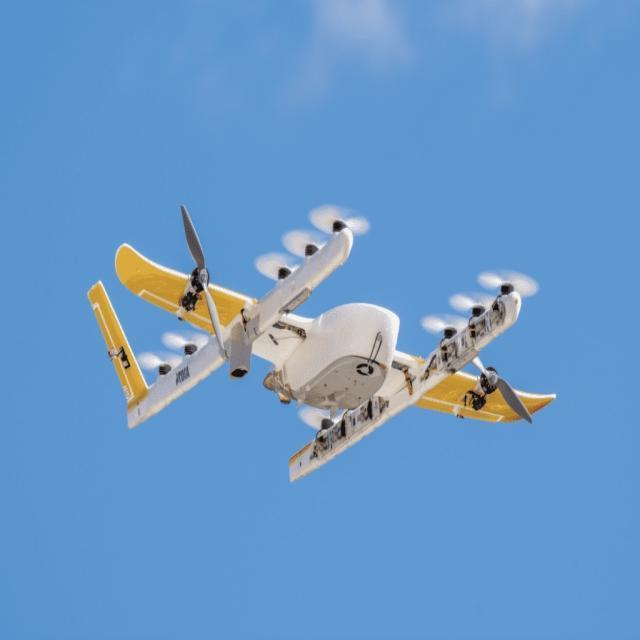iha: (61, 186, 557, 464)
